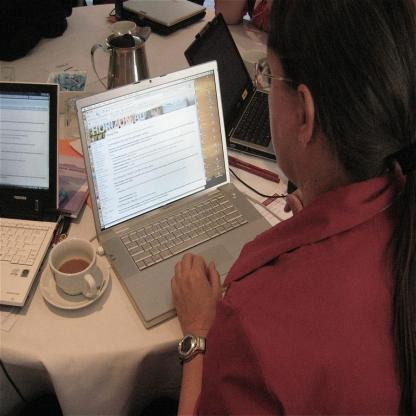board: (74, 61, 264, 326), (184, 13, 278, 162), (0, 82, 61, 308)
